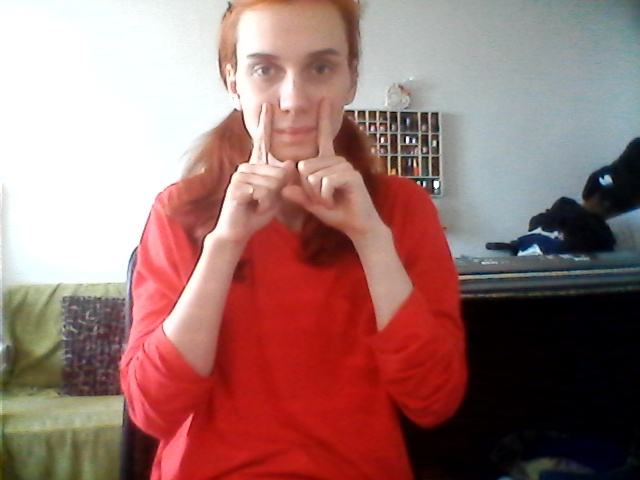h: (231, 100, 367, 227)
